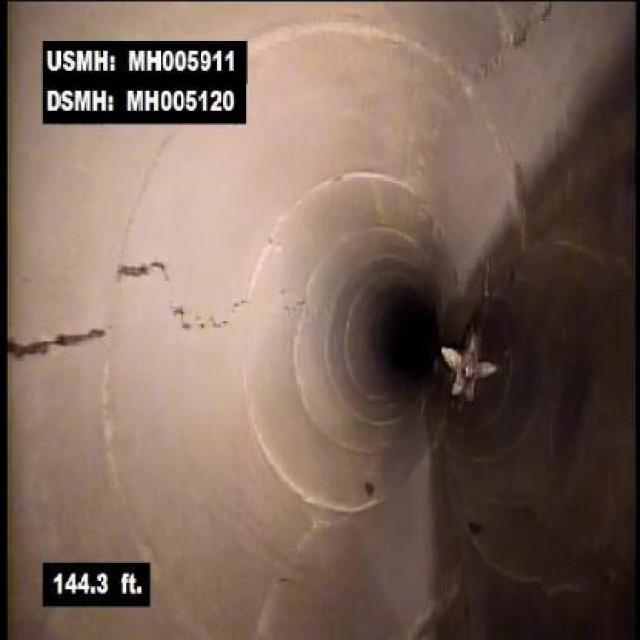Crack: (474, 3, 554, 80), (11, 326, 106, 360), (168, 298, 242, 332), (111, 252, 177, 290)
